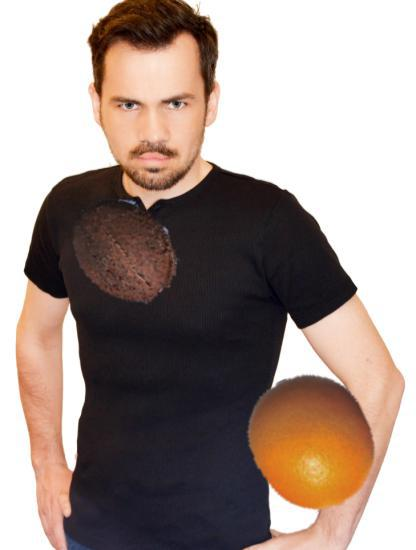Cocos: (66, 192, 183, 309)
Grapefruit: (242, 373, 382, 513)
Pear: (261, 379, 364, 482)
